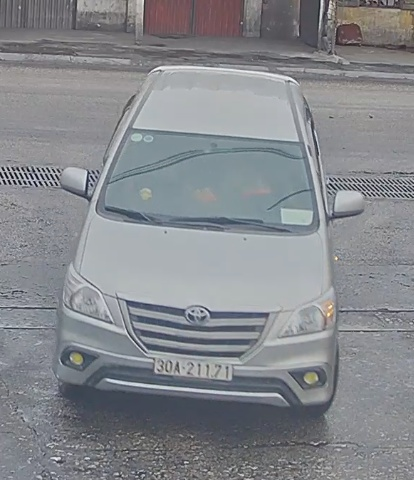vehicle plate: (149, 350, 240, 386)
